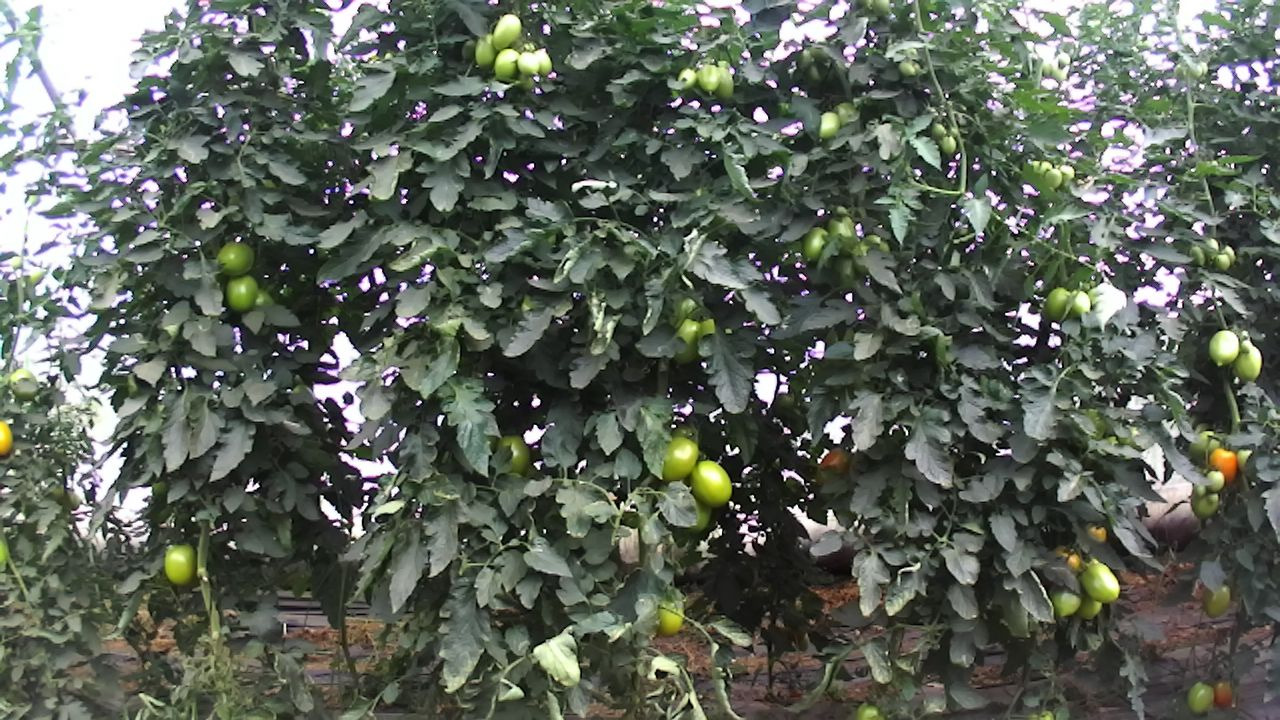tomato: (686, 457, 735, 511), (655, 434, 701, 485), (1079, 558, 1122, 608), (162, 540, 199, 590), (212, 240, 257, 277), (222, 271, 258, 315), (1206, 329, 1241, 369), (1045, 581, 1082, 618), (1205, 445, 1239, 485), (1232, 344, 1264, 386), (1040, 284, 1073, 323), (798, 225, 831, 264), (491, 12, 523, 52), (1184, 678, 1217, 716), (1200, 581, 1231, 621), (1189, 488, 1220, 521), (493, 46, 521, 81), (474, 30, 498, 69), (814, 108, 842, 141), (695, 62, 722, 94), (1068, 286, 1093, 319), (1210, 679, 1234, 709), (515, 50, 540, 78), (0, 416, 15, 460), (714, 66, 734, 99), (533, 47, 553, 78), (1203, 469, 1226, 494), (676, 67, 697, 90), (1042, 166, 1063, 189), (938, 134, 957, 156), (1187, 245, 1206, 267), (1213, 251, 1231, 273), (897, 61, 917, 78), (930, 121, 946, 138), (1238, 338, 1254, 354)
